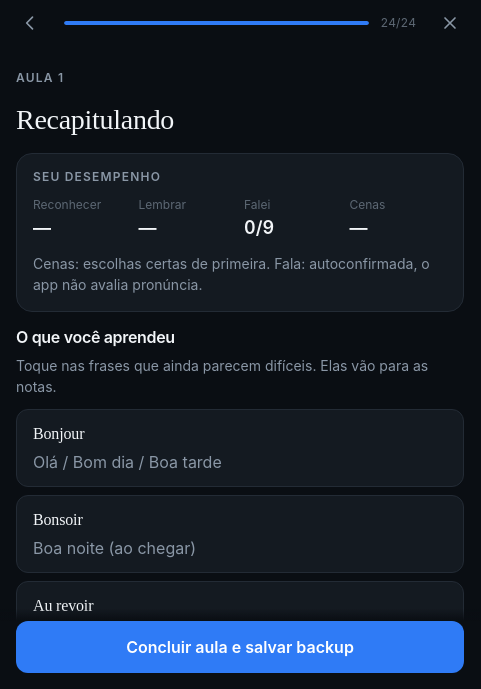
Test: progress backup (.json) › completing the lesson saves a backup with the completed progress
Click the button "Concluir aula e salvar backup" at (240, 647), box [16,621,464,673]
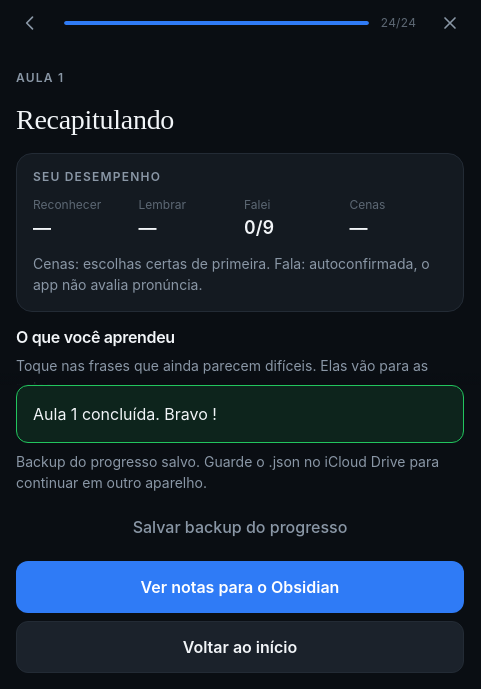
Now the text "Backup do progresso salvo" is shown, box [16,453,439,491]
